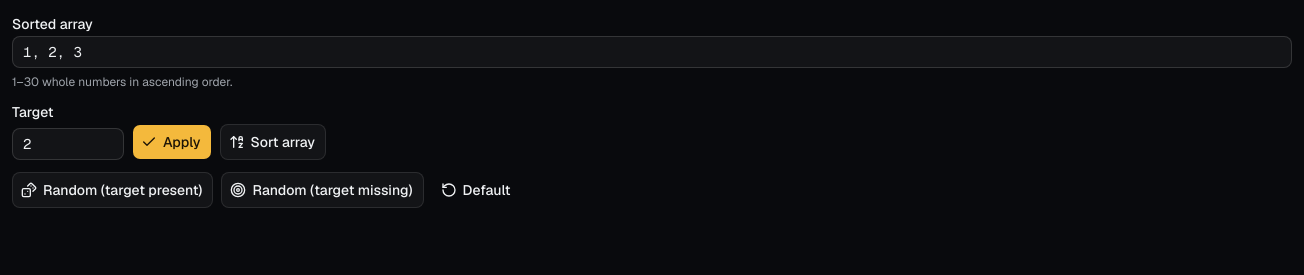
Test: SortedArrayTargetInput › validates the target
Replace the text in the field labelled "Target" with "abc" at point(68, 144), box [12,128,124,160]
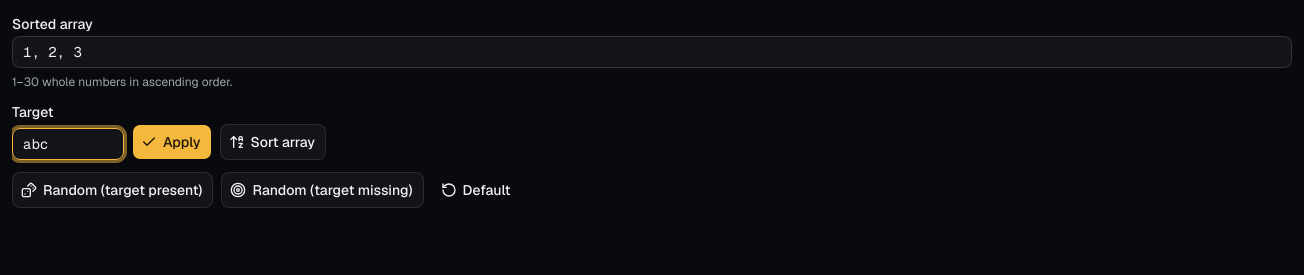
Click the button "Apply" at point(172, 142), box [132,124,212,160]
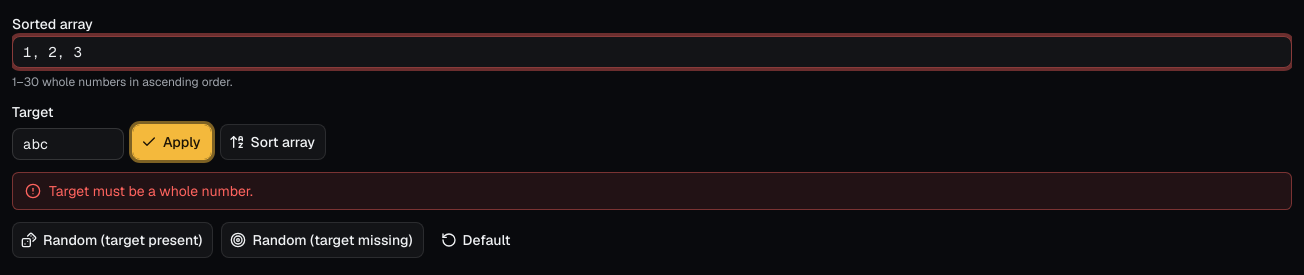
Result: the message shows "Target must be a whole number" at [49,182,253,200]
